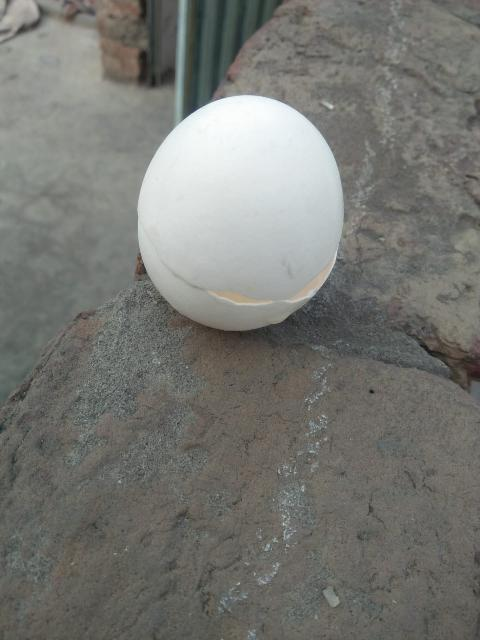Roto: (136, 93, 345, 332)
